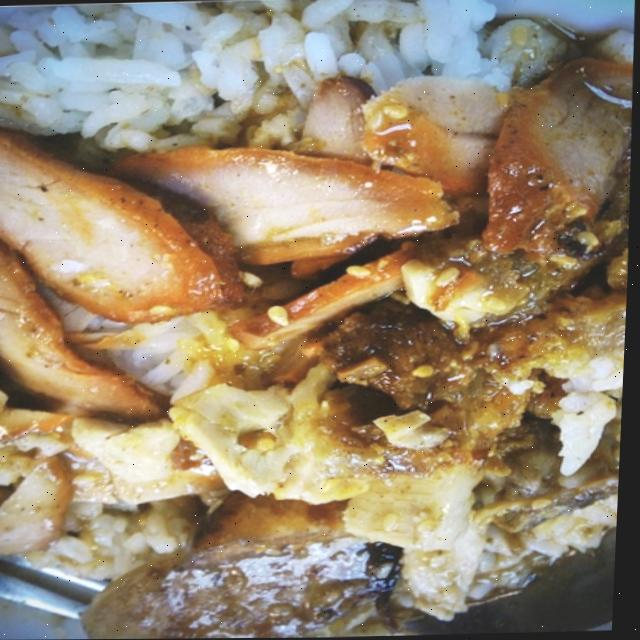猪肉菜式: (0, 21, 639, 640)
